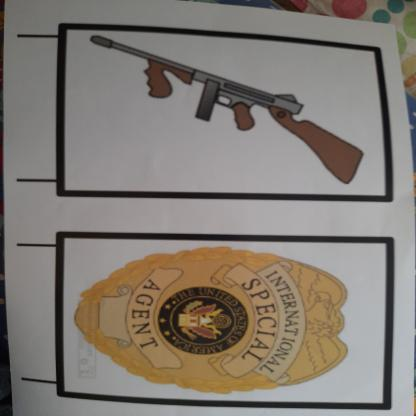Bootlegger: (68, 25, 382, 198)
G-man: (67, 235, 366, 404)
